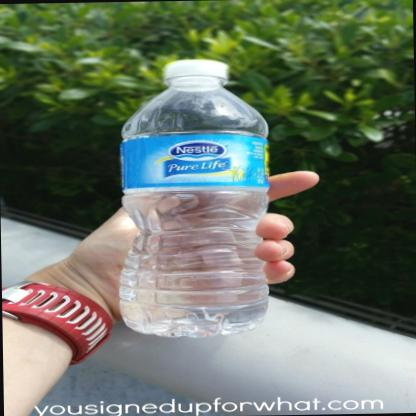plastic_bottles: (108, 53, 286, 341)
